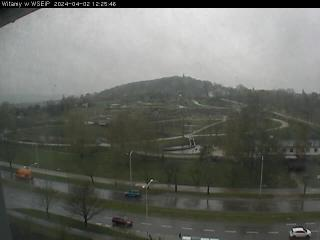car: (111, 214, 134, 228), (288, 226, 312, 239), (14, 168, 35, 180), (124, 188, 141, 198)
